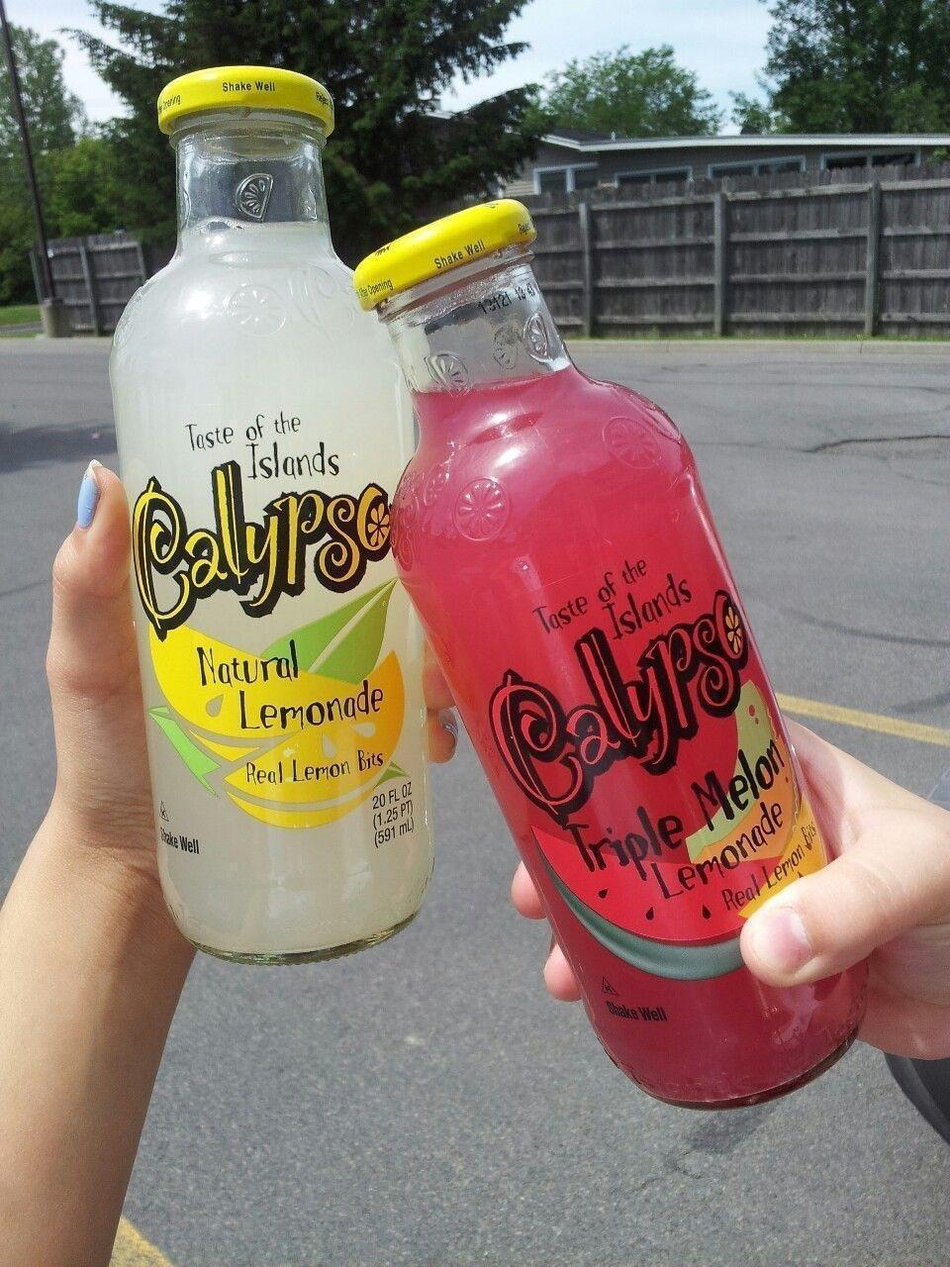bottle-glass: (357, 202, 853, 1113), (104, 64, 436, 960)
